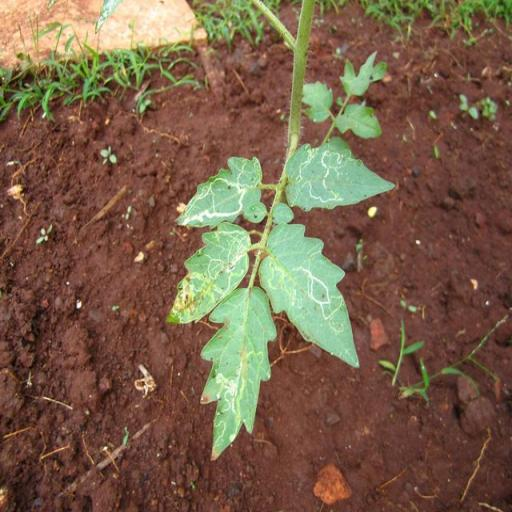disease_tomato: (258, 222, 360, 372), (199, 286, 278, 462), (165, 220, 252, 326), (281, 137, 395, 213), (173, 156, 264, 228)
